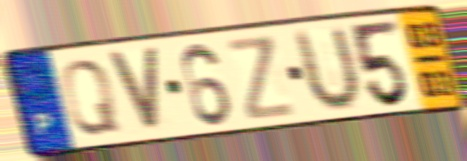5: (345, 16, 410, 109)
6: (178, 39, 232, 129)
Q: (59, 56, 124, 138)
U: (293, 23, 364, 116)
V: (104, 46, 162, 134)
Z: (223, 32, 299, 124)
